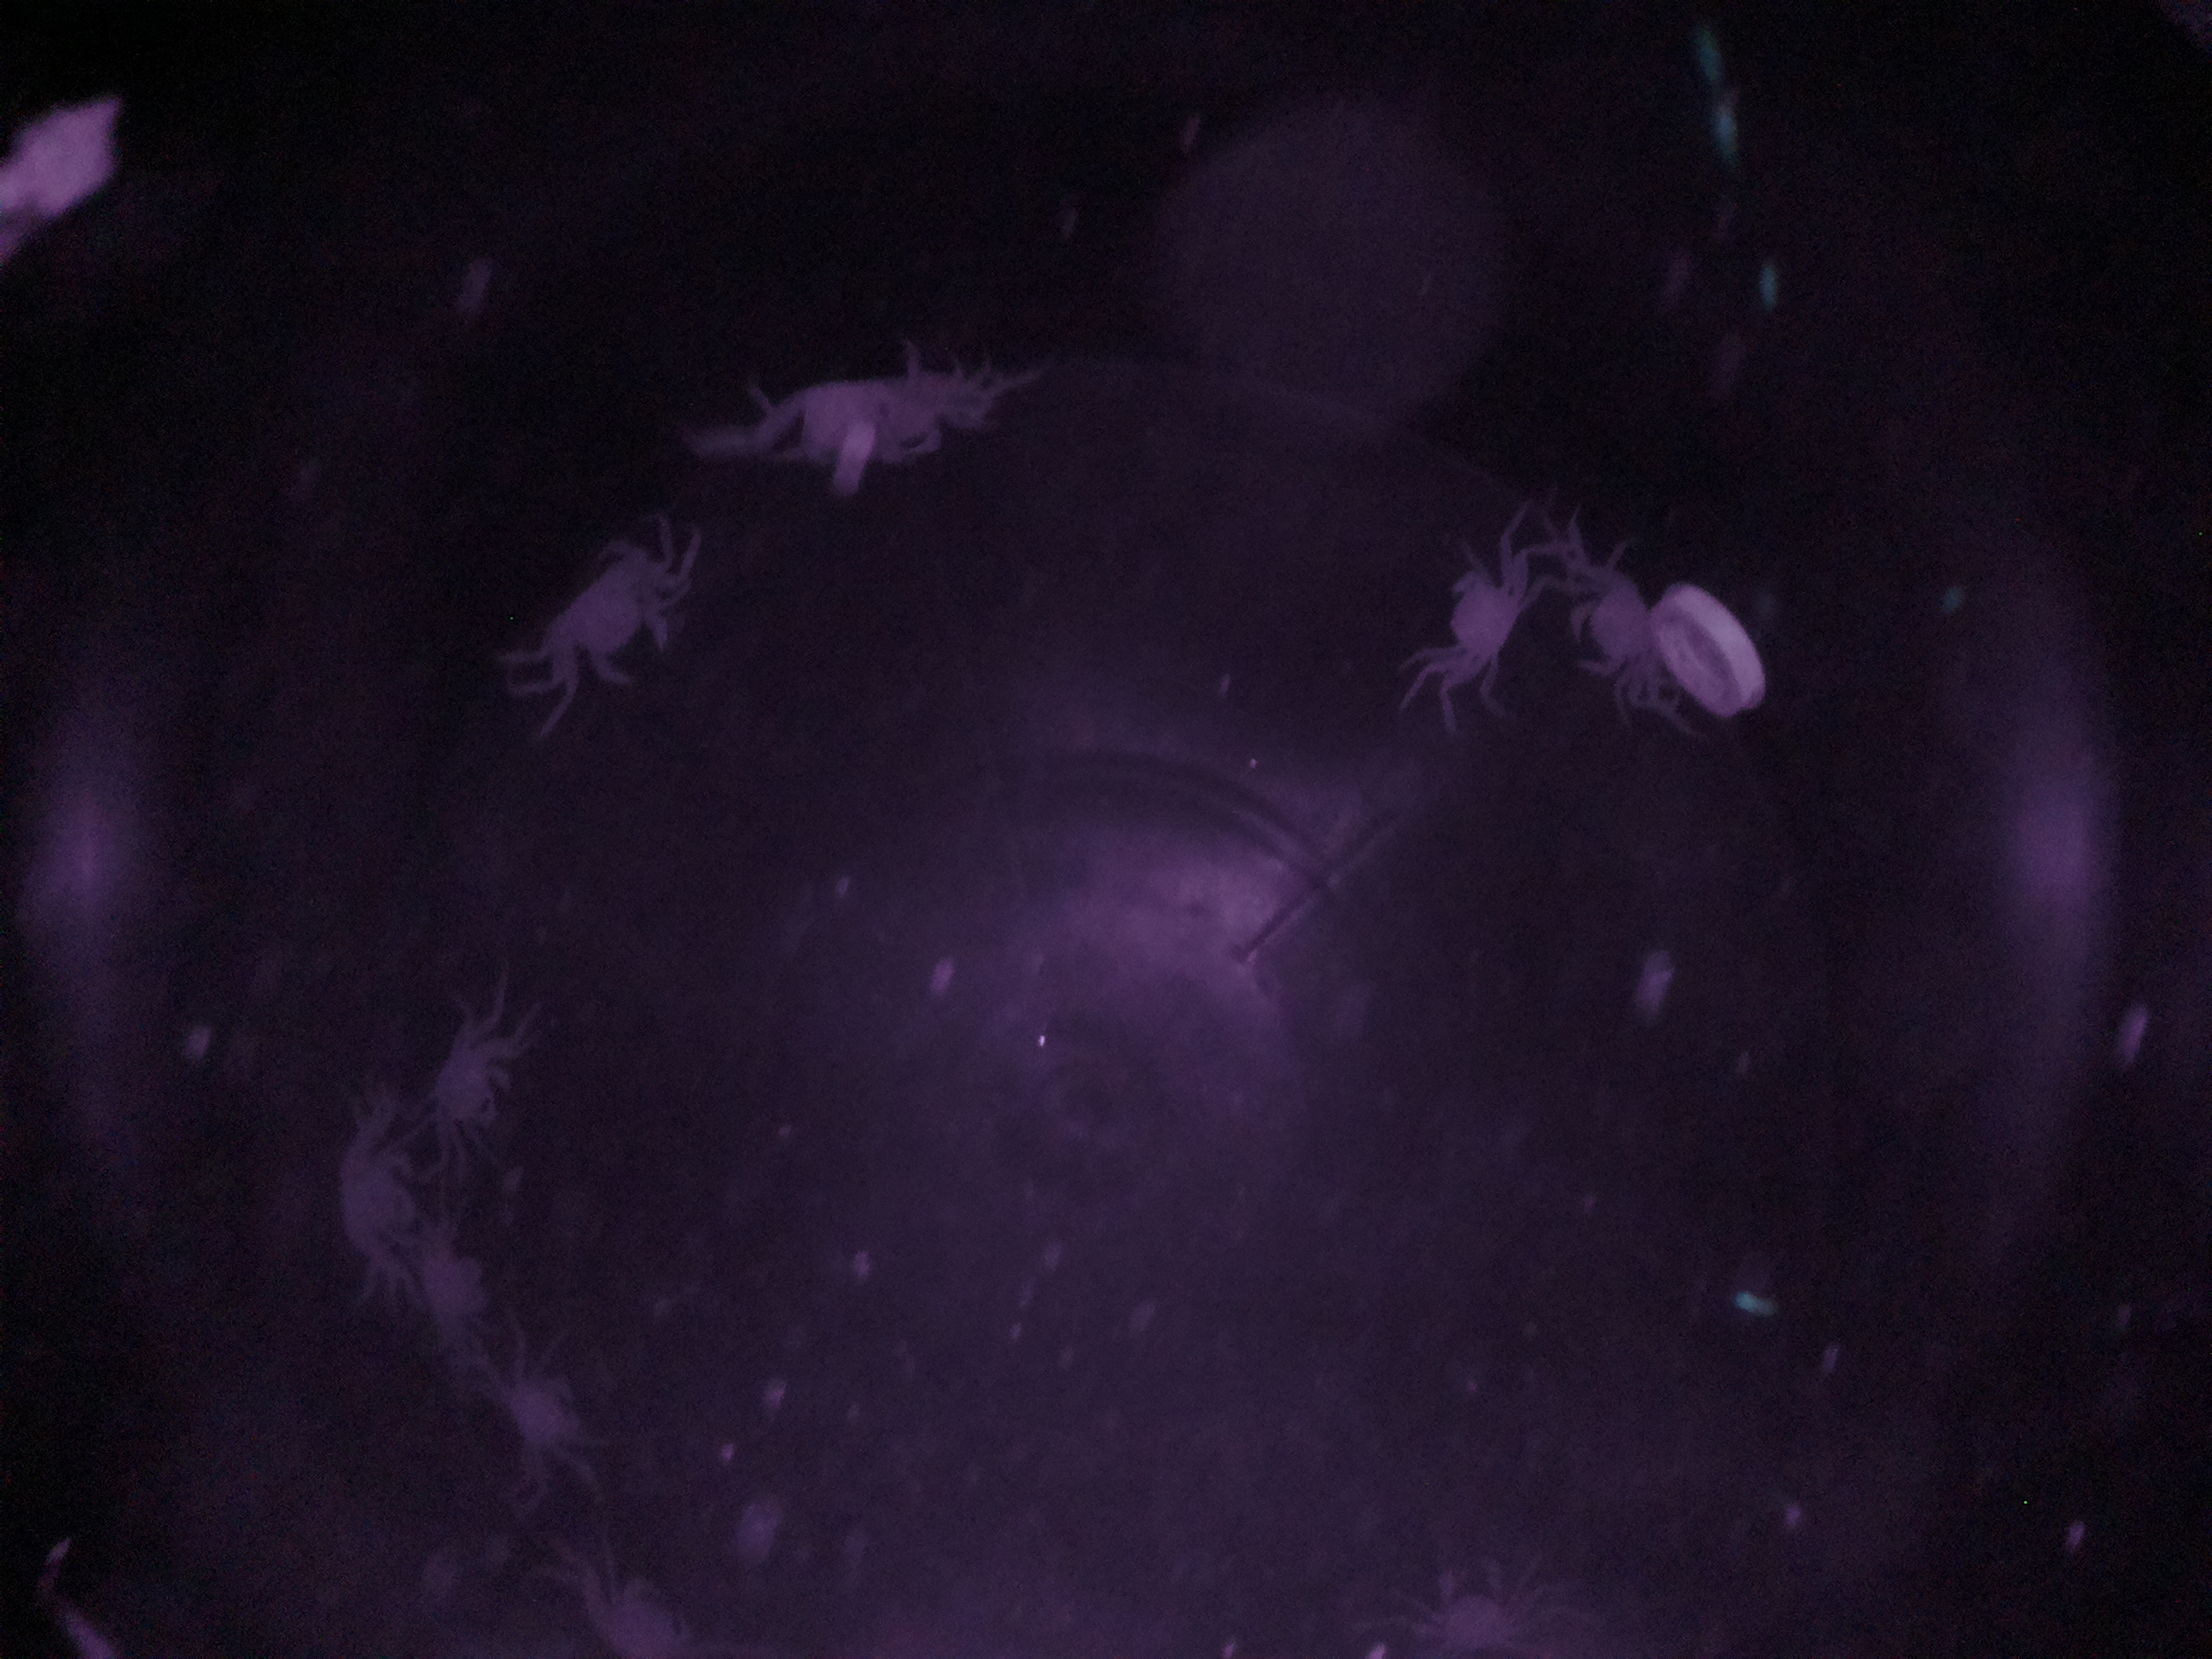Crab: (529, 528, 691, 708), (1426, 518, 1550, 716)
